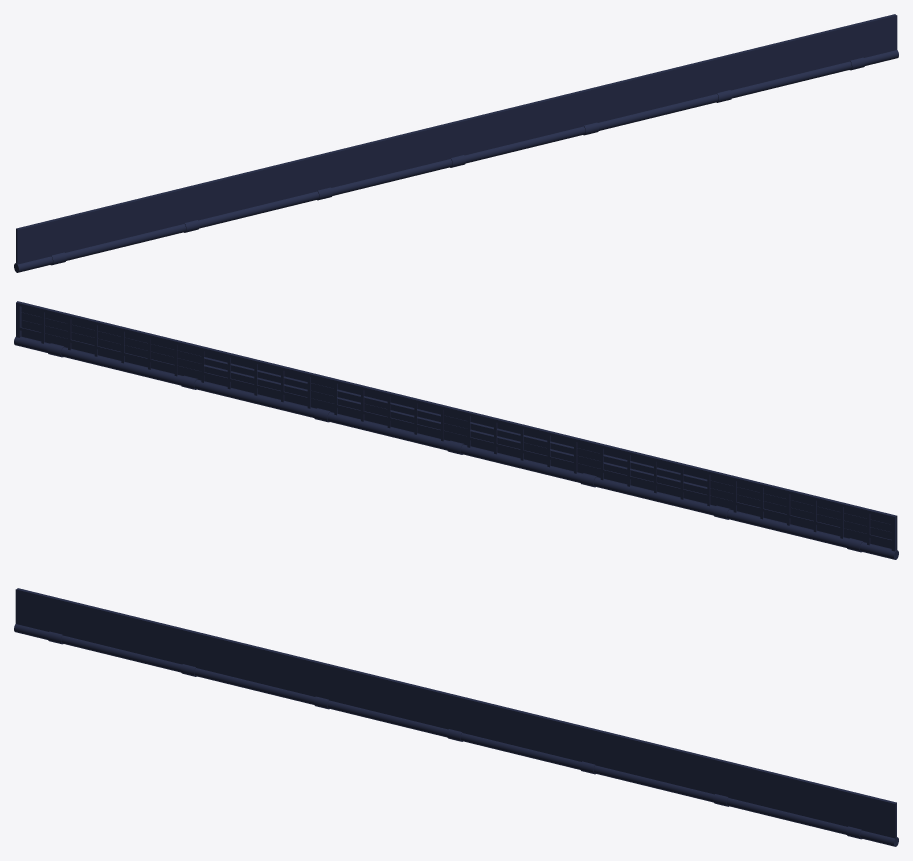
Rendered from yutian.glb.
The picture shows the model from 3 angles, top to bottom: view 1: azimuth 30°, elevation 25°; view 2: azimuth 150°, elevation 25°; view 3: azimuth 330°, elevation 25°; orthographic projection.
Parts seen in each view (by area): view 1: color; view 2: color; view 3: color.
Boxes of the visible parts, left/top/right/bottom form: color: left=14, top=14, right=898, bottom=272; color: left=14, top=301, right=898, bottom=559; color: left=14, top=588, right=898, bottom=846.
Size of the model in its own units: 133 by 6.35 by 1.5.
